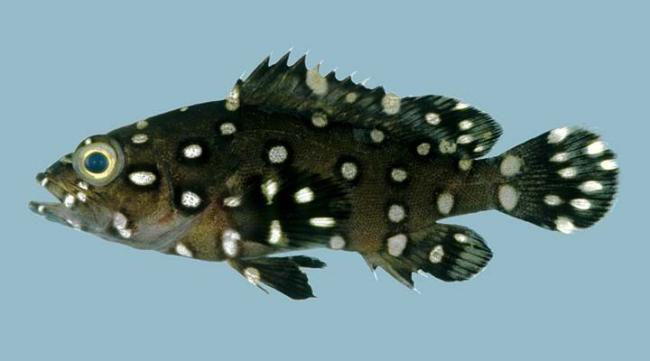fish: (28, 46, 621, 301)
